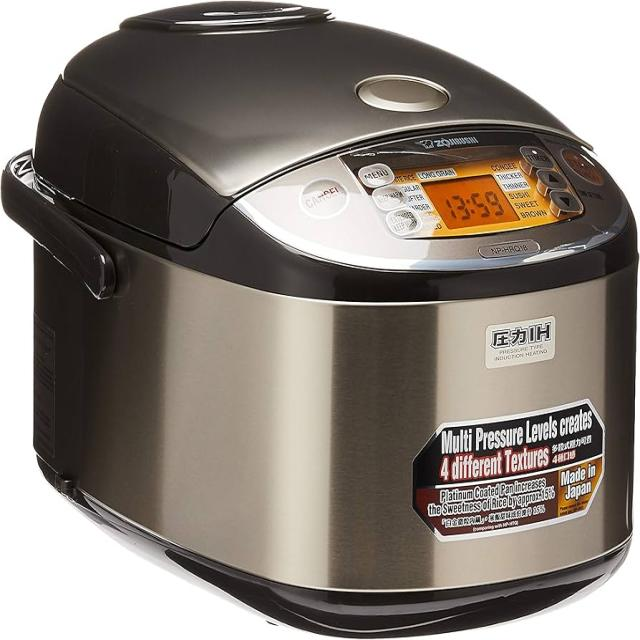appliances: (2, 3, 636, 636)
